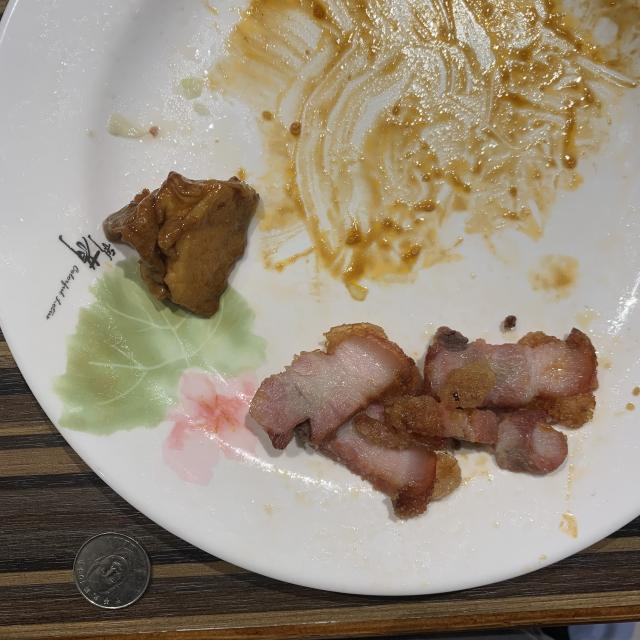coin: (74, 532, 151, 609)
creamy tofu: (102, 172, 259, 316)
red grilled pork: (250, 322, 598, 518)
